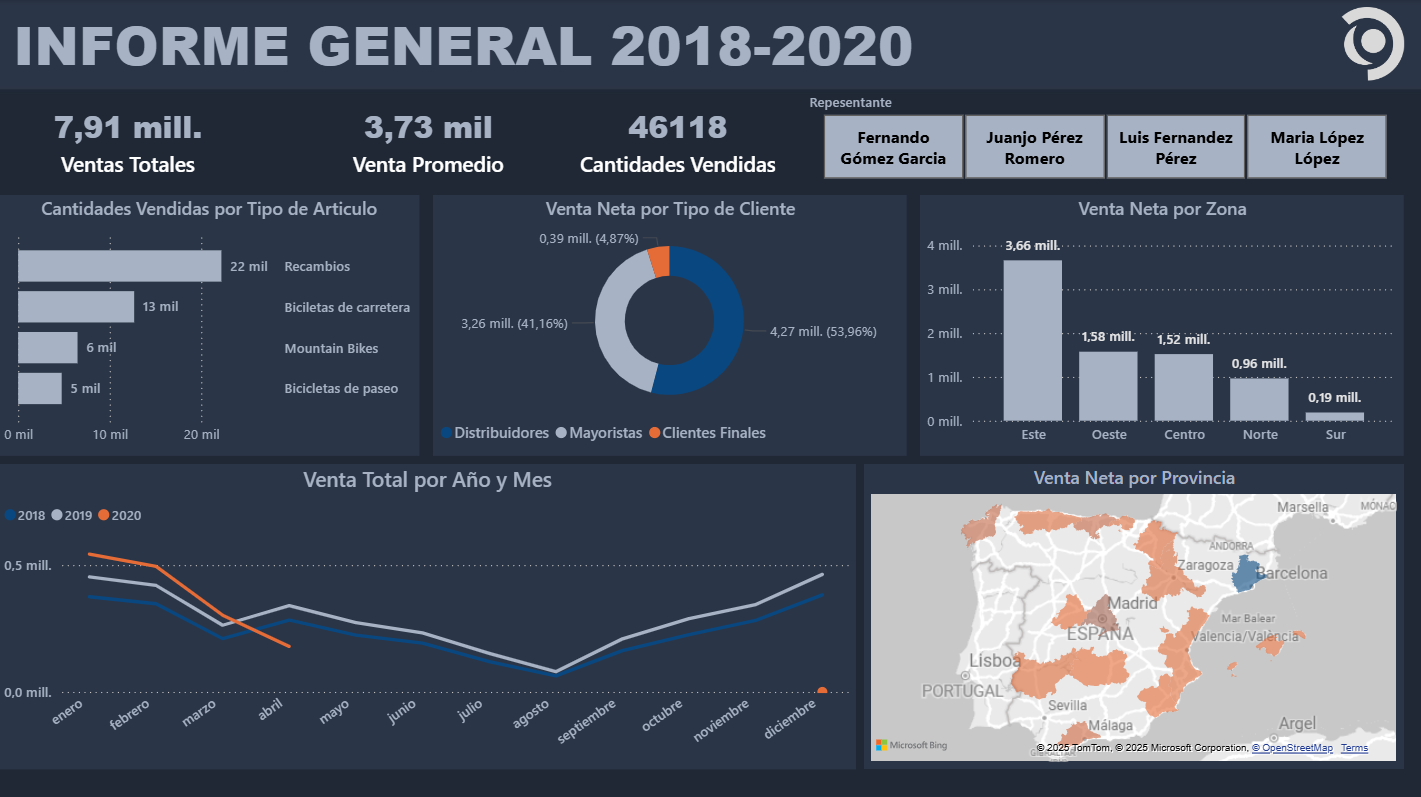

The page's visual inventory and layout, read from the dashboard file:
{"tool":"powerbi","page":{"name":"Página 1","canvas":[1280,720],"ordinal":0},"visuals":[{"type":"textbox","box":[10,0,1037.1,78.6],"z":0},{"type":"cardVisual","fields":{"Data":["Facturas ventas.Neto"]},"box":[0,78.3,235.9,97.4],"z":1000},{"type":"cardVisual","fields":{"Data":["Facturas ventas.Neto"]},"box":[271.1,78.3,232.9,97.4],"z":2000},{"type":"cardVisual","fields":{"Data":["Facturas ventas.Cantidades"]},"box":[493.9,78.3,235.9,97.4],"z":3000},{"type":"clusteredBarChart","title":"Cantidades Vendidas por Tipo de Articulo","fields":{"Y":["Facturas ventas.Cantidades"],"Category":["Facturas ventas.Característica 1 artículo"]},"box":[0,175.5,379.1,233.6],"z":4000},{"type":"donutChart","title":"Venta Neta por Tipo de Cliente","fields":{"Y":["Facturas ventas.Neto"],"Category":["Facturas ventas.Característica 1 cliente"]},"box":[391.8,175.5,424.5,233.6],"z":5000},{"type":"clusteredColumnChart","title":"Venta Neta por Zona","fields":{"Y":["Facturas ventas.Neto"],"Category":["Facturas ventas.Zona"]},"box":[828.2,175.5,433.6,233.6],"z":6000},{"type":"slicer","fields":{"Values":["Facturas ventas.Repesentante"]},"box":[716.8,78.3,555.2,89.3],"z":7000},{"type":"lineChart","title":"Venta Total por Año y Mes","fields":{"Y":["Facturas ventas.Neto"],"Category":["Facturas ventas.Fecha.Variación.Jerarquía de fechas.Año","Facturas ventas.Fecha.Variación.Jerarquía de fechas.Trimestre","Facturas ventas.Fecha.Variación.Jerarquía de fechas.Mes","Facturas ventas.Fecha.Variación.Jerarquía de fechas.Día"],"Series":["Facturas ventas.anioReal"]},"box":[0,416.4,770.9,273.6],"z":8000},{"type":"image","box":[1133,0,129.3,79],"z":9000},{"type":"filledMap","title":"Venta Neta por Provincia","fields":{"Category":["Facturas ventas.Pais","Facturas ventas.Provincia"]},"box":[778.2,416.4,483.6,272.7],"z":10000}]}

Visuals, with their boxes in screenshot pixels (x1, y1, x2, y2), scaled from the page's 1280x720 canvas onto the 1421x797 screenshot:
textbox: {"left": 11, "top": 0, "right": 1162, "bottom": 87}
cardVisual - Facturas ventas.Neto: {"left": 0, "top": 87, "right": 262, "bottom": 194}
cardVisual - Facturas ventas.Neto: {"left": 301, "top": 87, "right": 560, "bottom": 194}
cardVisual - Facturas ventas.Cantidades: {"left": 548, "top": 87, "right": 810, "bottom": 194}
"Cantidades Vendidas por Tipo de Articulo" clusteredBarChart: {"left": 0, "top": 194, "right": 421, "bottom": 453}
"Venta Neta por Tipo de Cliente" donutChart: {"left": 435, "top": 194, "right": 906, "bottom": 453}
"Venta Neta por Zona" clusteredColumnChart: {"left": 919, "top": 194, "right": 1401, "bottom": 453}
slicer - Facturas ventas.Repesentante: {"left": 796, "top": 87, "right": 1412, "bottom": 186}
"Venta Total por Año y Mes" lineChart: {"left": 0, "top": 461, "right": 856, "bottom": 764}
image: {"left": 1258, "top": 0, "right": 1401, "bottom": 87}
"Venta Neta por Provincia" filledMap: {"left": 864, "top": 461, "right": 1401, "bottom": 763}
